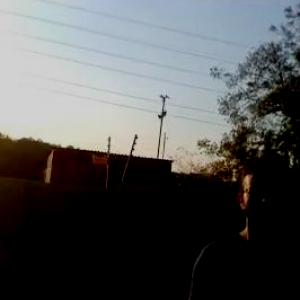follow: (178, 149, 299, 299)
